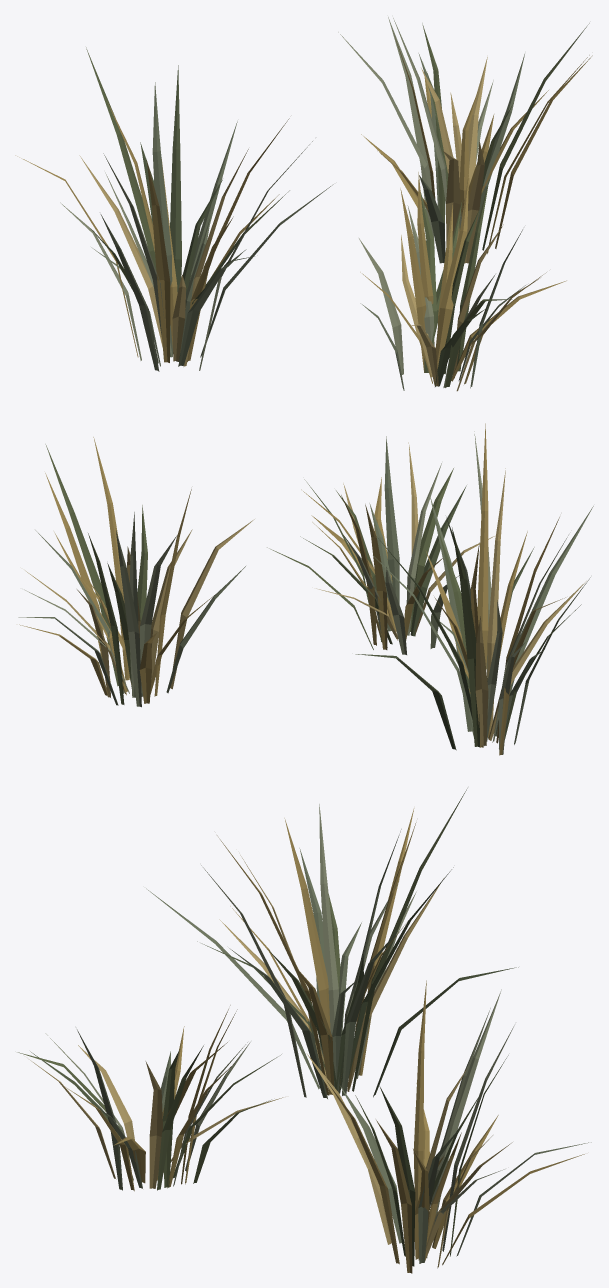
The picture shows the model from 3 angles, top to bottom: view 1: azimuth 30°, elevation 25°; view 2: azimuth 150°, elevation 25°; view 3: azimuth 270°, elevation 25°; orthographic projection. The views are drawn at different scales.
Visible parts, largest first — view 1: g02; view 2: g02; view 3: g02.
Part boxes in pixels (left/top/right/bottom): g02: left=15, top=17, right=592, bottom=391; g02: left=18, top=423, right=593, bottom=755; g02: left=17, top=788, right=591, bottom=1273.
Size of the model in its own units: 0.78 by 0.3697 by 0.661.
